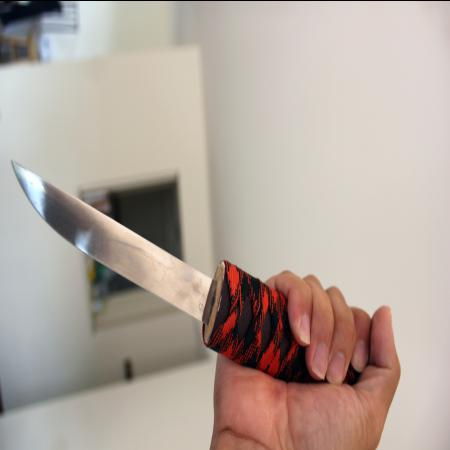long weapon: (3, 140, 370, 418)
